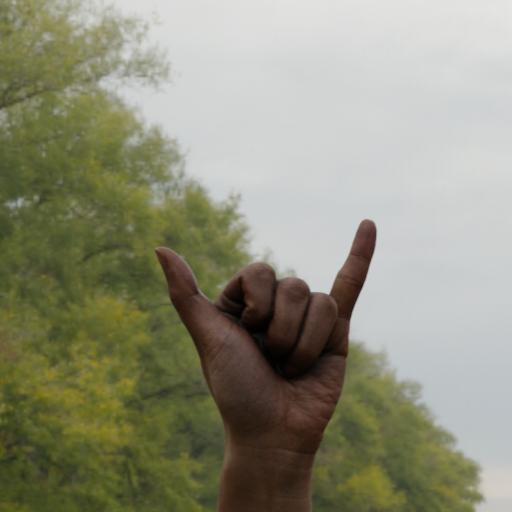Y: (138, 200, 382, 465)
